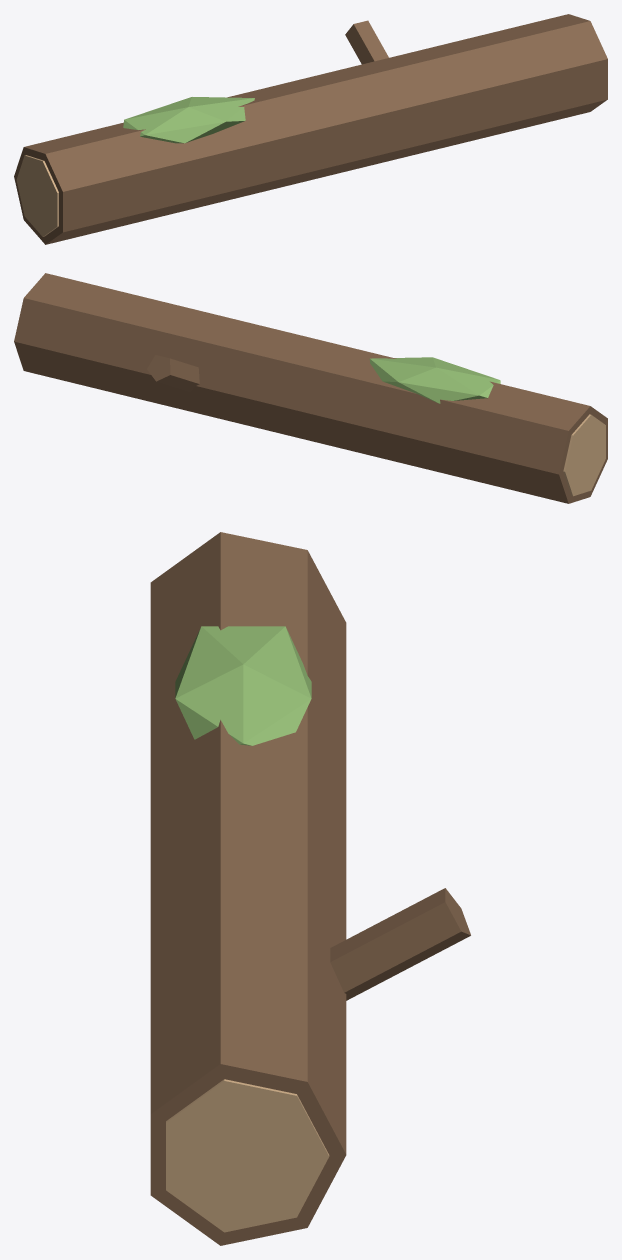
The model's file is SM_Log_Fallen.fbx.
3 renders of one model, top to bottom at view 1: azimuth 30°, elevation 25°; view 2: azimuth 150°, elevation 25°; view 3: azimuth 270°, elevation 25°, orthographic. The views are drawn at different scales.
Visible parts, largest first — view 1: SM_Log_Fallen; view 2: SM_Log_Fallen; view 3: SM_Log_Fallen.
Part boxes in pixels (x1,y1,x2,y2): SM_Log_Fallen: (14,14,607,244); SM_Log_Fallen: (14,273,607,503); SM_Log_Fallen: (150,532,470,1245).
Bounding box in the file's own units: 2.21 × 0.3755 × 0.5604.
